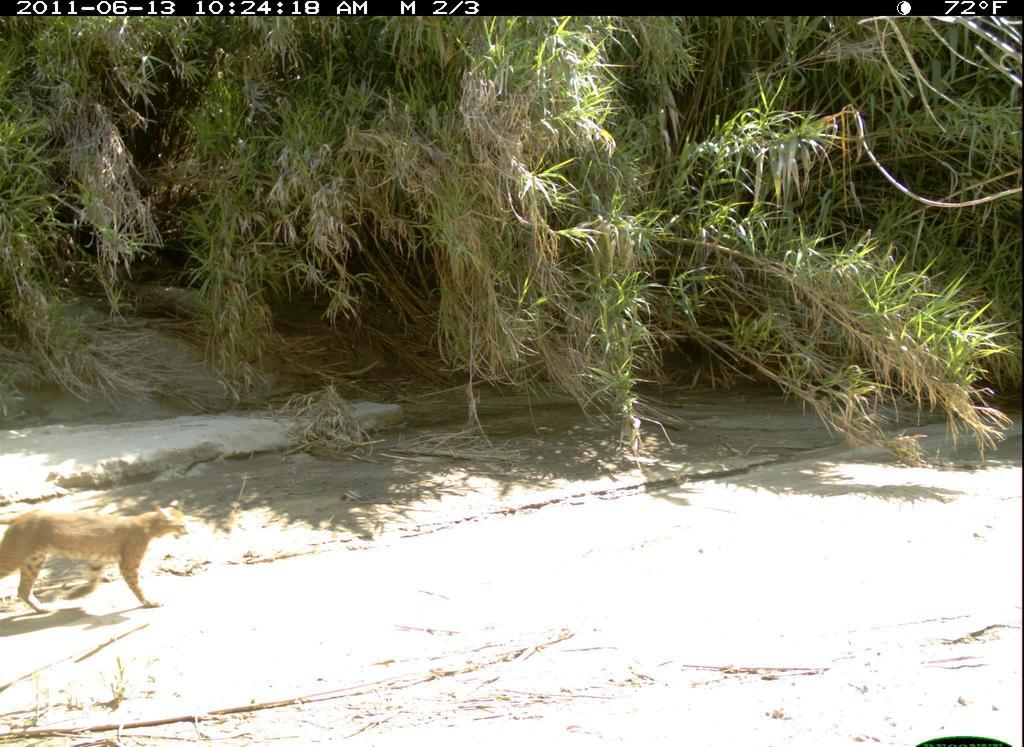bobcat: (2, 493, 194, 625)
